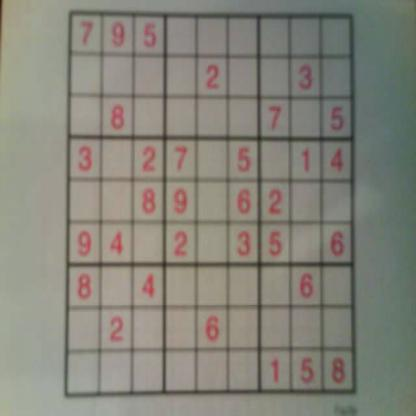sudoku: (62, 7, 360, 401)
